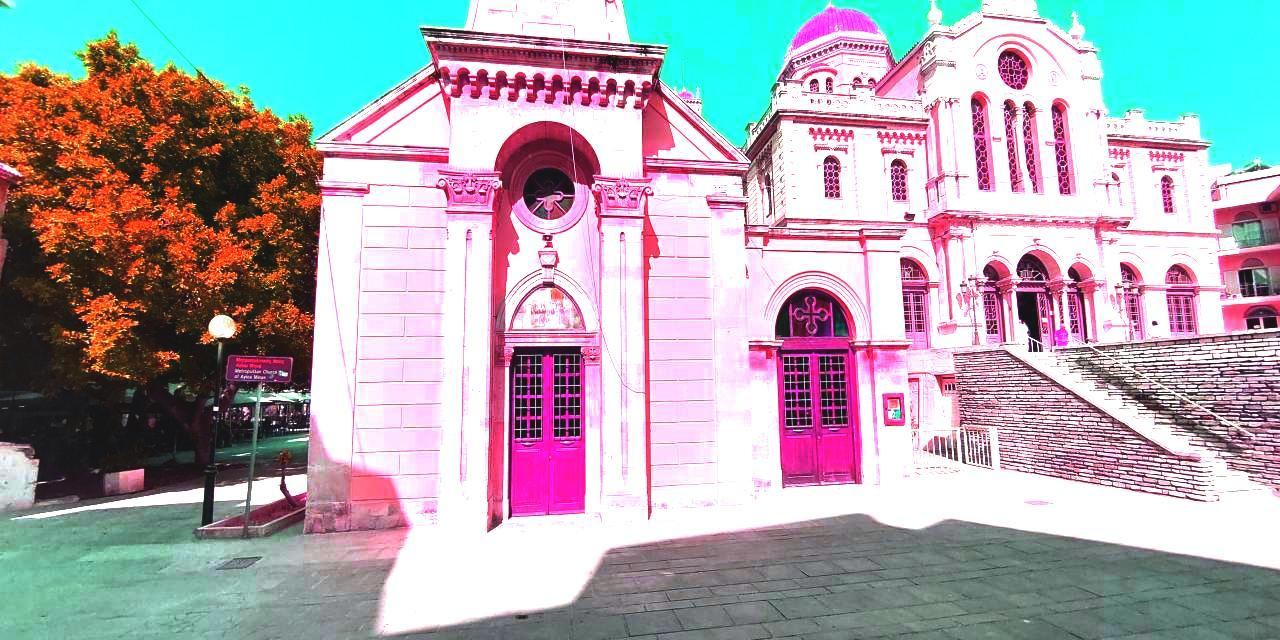Agios Minas: (290, 3, 1228, 535)
